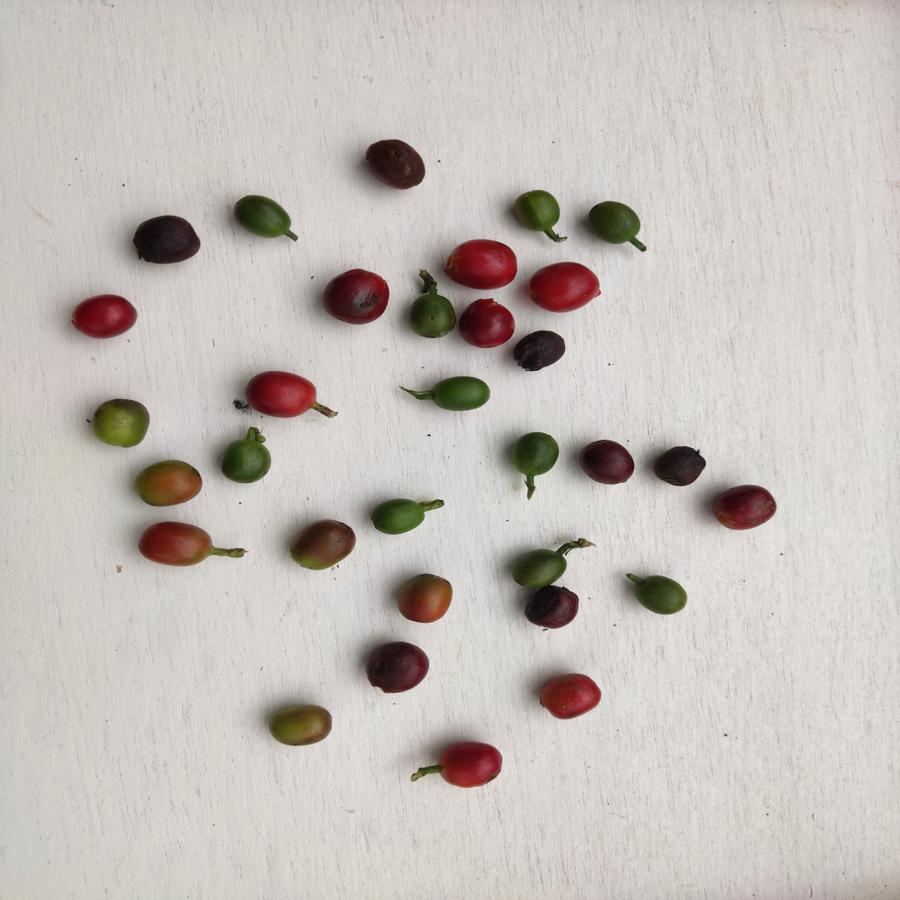Inmaduro: (419, 373, 494, 418), (215, 433, 275, 488), (234, 192, 297, 243), (509, 430, 568, 482), (628, 572, 687, 622), (590, 198, 648, 248), (372, 492, 430, 542), (408, 292, 457, 342), (512, 186, 565, 232), (508, 546, 565, 584)
Maduro: (527, 259, 601, 312), (445, 235, 515, 290), (435, 737, 508, 789), (247, 371, 315, 419), (538, 672, 602, 720), (457, 296, 515, 348), (72, 292, 135, 339)
Pinton: (289, 518, 360, 580), (134, 456, 203, 511), (86, 396, 153, 450), (139, 519, 211, 568), (266, 702, 331, 748), (396, 573, 454, 622)
Sobremaduro: (357, 133, 435, 197), (320, 262, 390, 323), (125, 215, 202, 263), (365, 641, 431, 696), (509, 323, 572, 374), (713, 482, 774, 533), (576, 437, 636, 488), (524, 584, 581, 631), (653, 440, 703, 488)
